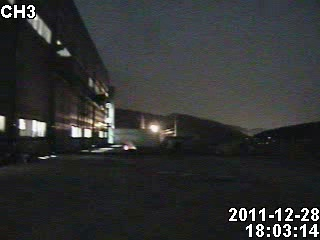fire: (119, 139, 140, 154)
